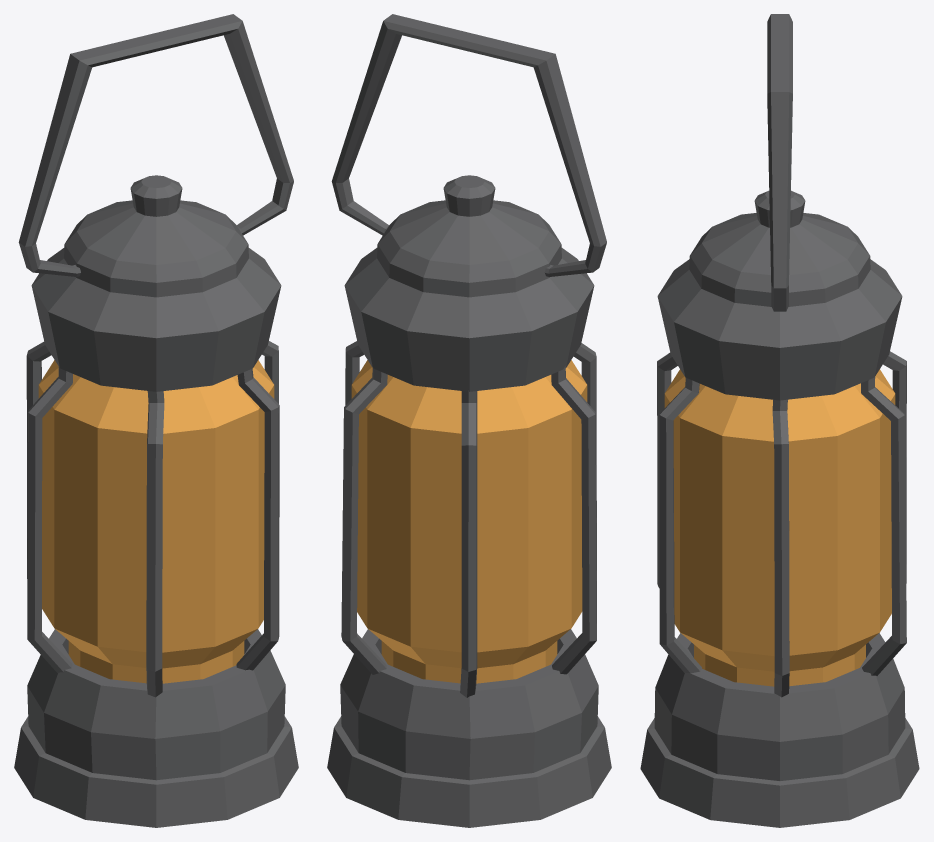
File: gas_lamp.fbx
3 renders of one model, left to right at view 1: azimuth 30°, elevation 25°; view 2: azimuth 150°, elevation 25°; view 3: azimuth 270°, elevation 25°, orthographic. The views are drawn at different scales.
Visible parts, largest first — view 1: Hand_Gas_Lamp; view 2: Hand_Gas_Lamp; view 3: Hand_Gas_Lamp.
Part boxes in pixels (box(x1,y1,x2,y2)): Hand_Gas_Lamp: box(14, 14, 298, 827); Hand_Gas_Lamp: box(327, 14, 611, 827); Hand_Gas_Lamp: box(640, 14, 919, 827).
Bounding box in the file's own units: 28.33 × 73.5 × 25.96.
